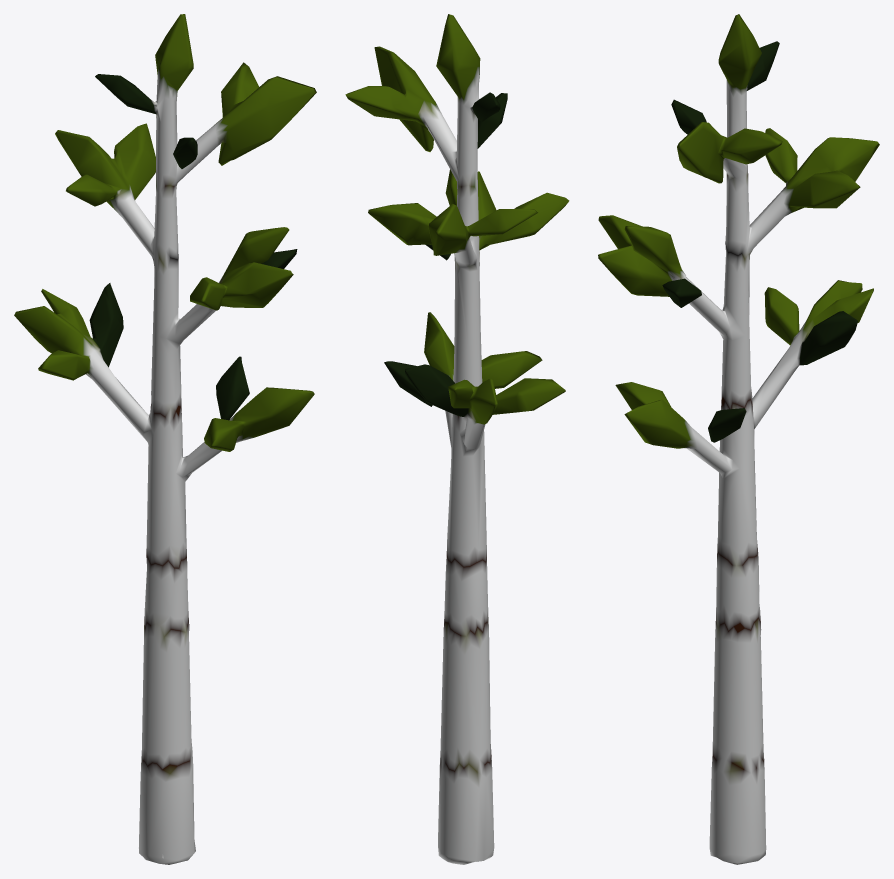
File: gen3d-birch-sapling-lod0.glb
3 renders of one model, left to right at view 1: azimuth 30°, elevation 25°; view 2: azimuth 150°, elevation 25°; view 3: azimuth 270°, elevation 25°, orthographic.
Visible parts, largest first — view 1: part_0; view 2: part_0; view 3: part_0.
Boxes of the visible parts, x1,y1,x2,y2 form: part_0: [14, 14, 316, 864]; part_0: [345, 14, 569, 864]; part_0: [598, 14, 879, 864].
Size of the model in its own units: 0.293 by 0.9977 by 0.3011.
